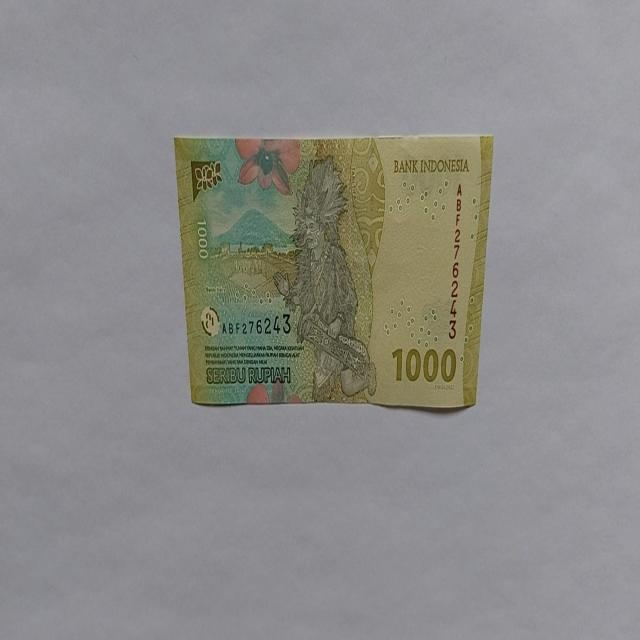seribu rupiah kertas: (173, 132, 494, 410)
